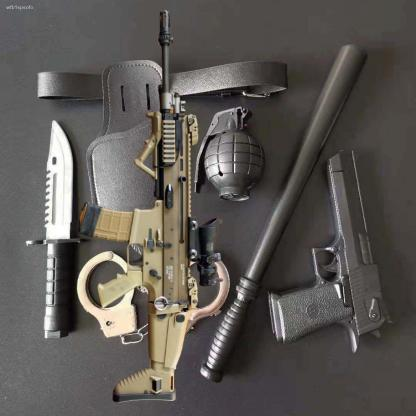Grenade: (195, 106, 266, 201)
Gun: (77, 9, 223, 403)
Knife: (24, 120, 91, 339)
Pistol: (265, 149, 394, 354)
